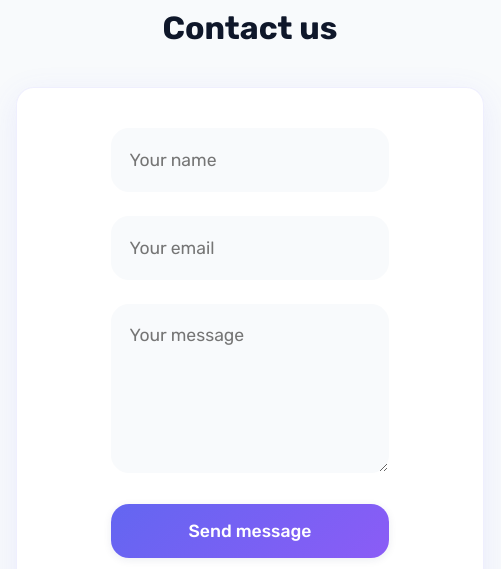
Test case: ContactComponent › detects spam content
Type "John Doe" into the field with placeholder "Your name". click: {"x": 250, "y": 160}
box: [111,128,389,192]
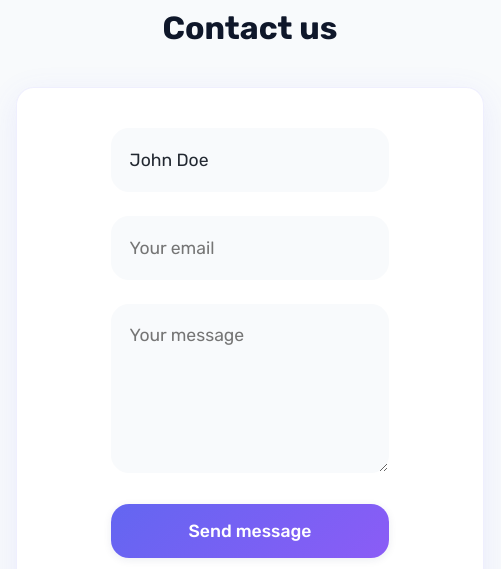
Type "john@example.com" into the field with placeholder "Your email". click: {"x": 250, "y": 248}
box: [111,216,389,280]
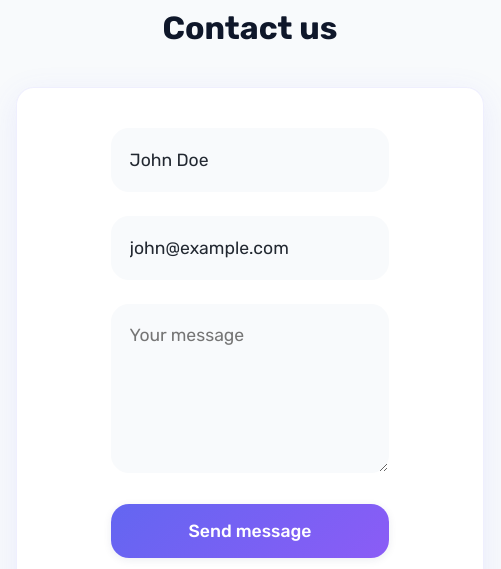
Type "Check out this website: https://spam.com" into the text box with placeholder "Your message". click: {"x": 250, "y": 388}
box: [111,304,389,473]
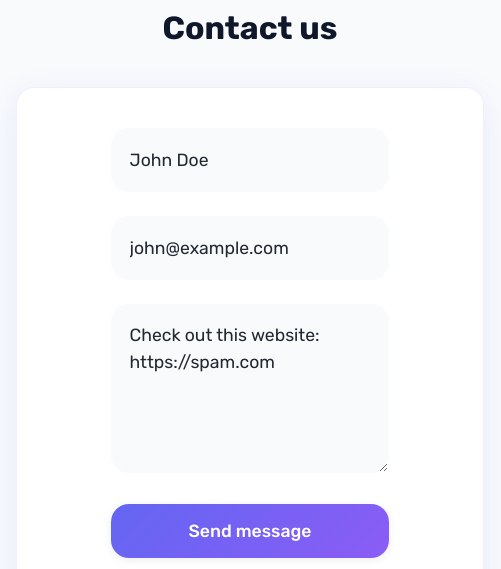
Click the submit button. click: {"x": 250, "y": 531}
box: [111,504,389,558]
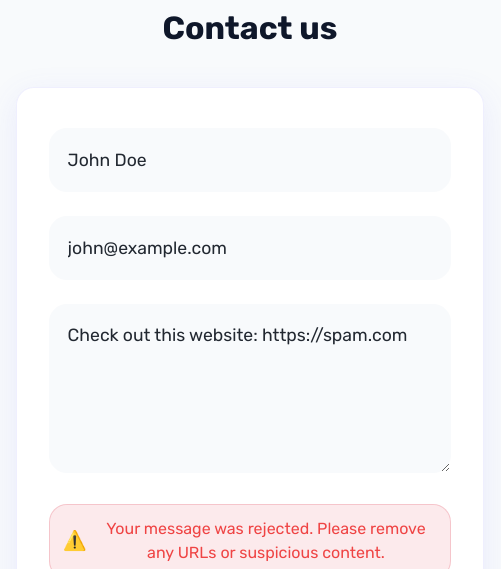
Result: the text "Your message was rejected. Please remove any URLs or suspicious content." is shown at [106,520,426,562]
